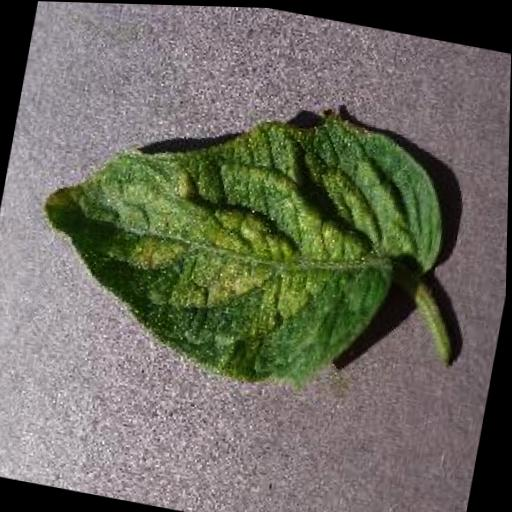Spider Mites: (18, 60, 461, 411)
